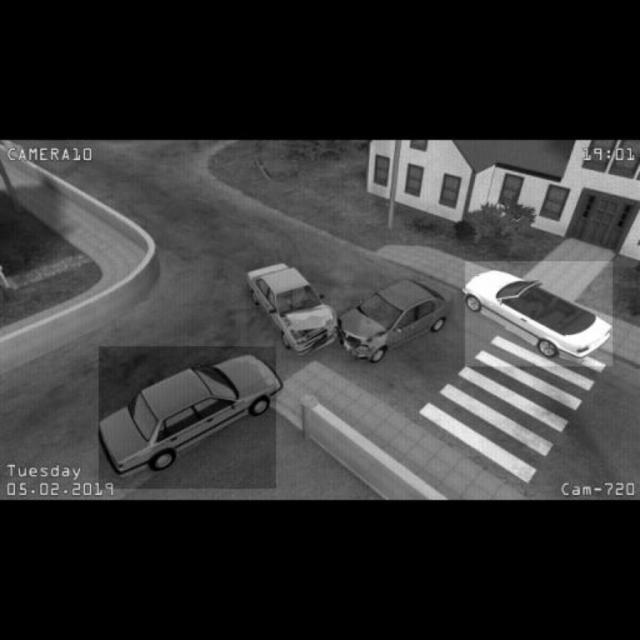accident: (247, 265, 448, 363)
vehicle: (99, 347, 276, 489), (466, 261, 613, 365)
